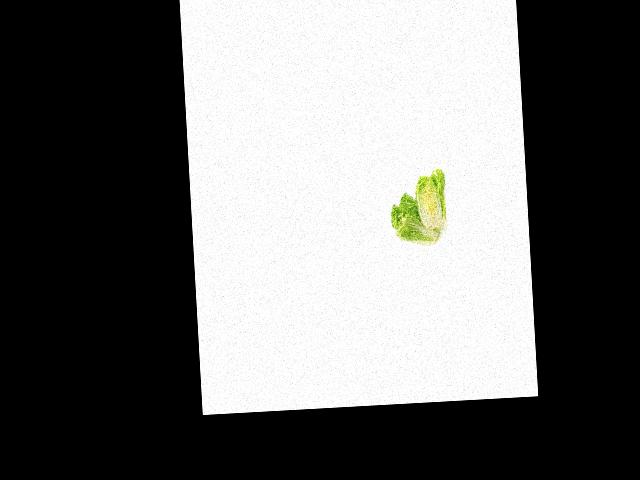lettuce: (387, 187, 443, 249)
